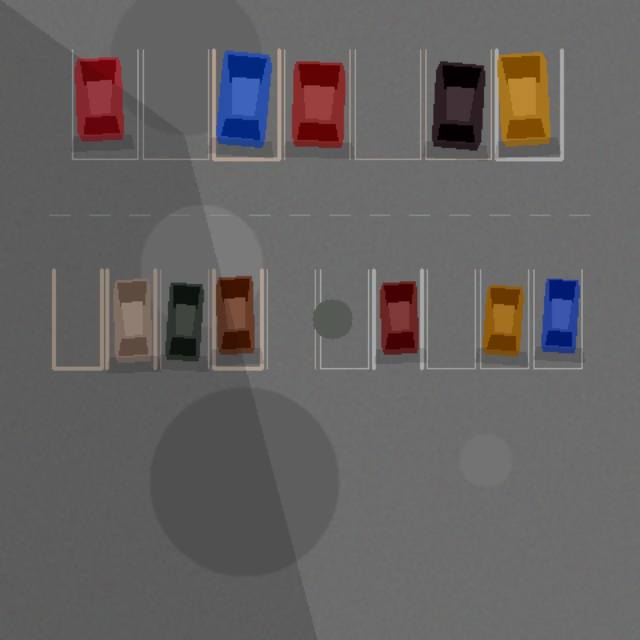space-empty: (143, 49, 208, 159), (355, 49, 420, 159), (53, 269, 101, 368), (267, 269, 315, 368), (320, 269, 368, 368), (427, 269, 475, 368)
space-occupied: (213, 49, 279, 159), (425, 49, 491, 159), (72, 49, 137, 159), (284, 49, 349, 159), (496, 49, 561, 159), (107, 269, 155, 368), (160, 269, 208, 368), (213, 269, 261, 368), (373, 269, 421, 368), (480, 269, 528, 368), (533, 269, 581, 368)
